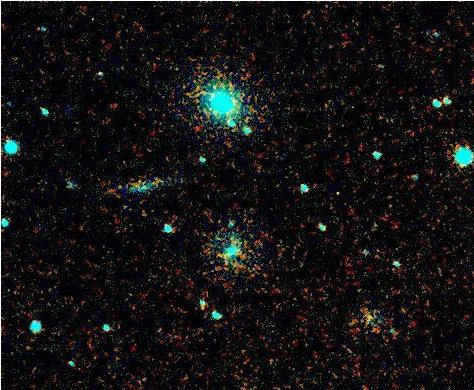star: (192, 297, 222, 327)
